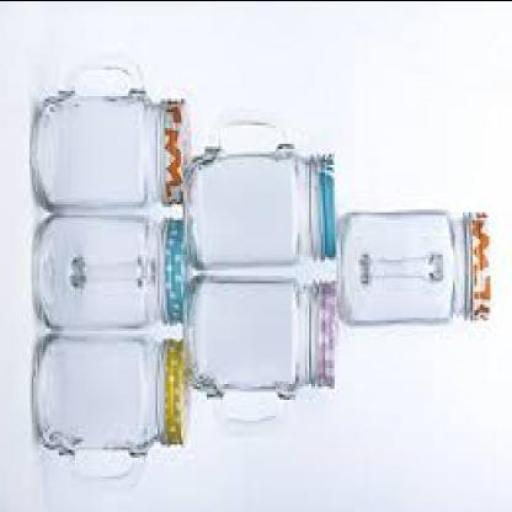glass: (187, 108, 319, 266), (189, 272, 317, 433), (35, 327, 159, 491), (34, 53, 165, 208), (339, 204, 471, 324), (35, 211, 166, 327)
metal: (313, 277, 339, 383), (166, 334, 192, 440), (168, 213, 194, 317), (470, 203, 492, 316), (164, 95, 187, 198), (320, 148, 336, 254)
